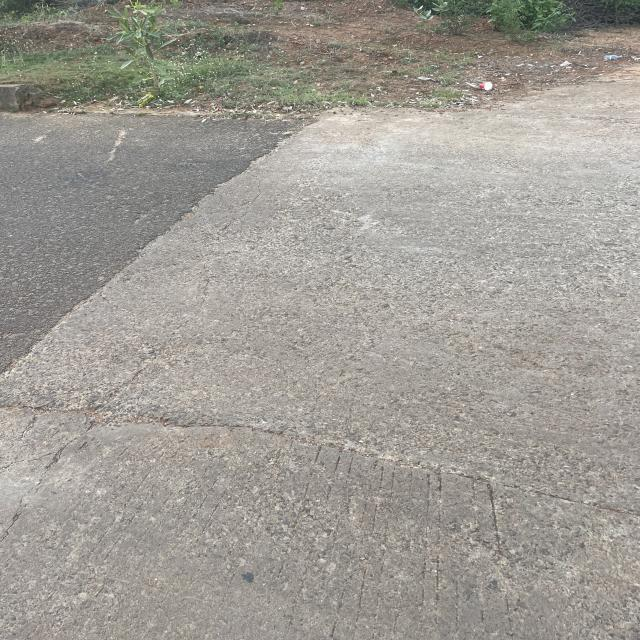D40: (13, 388, 585, 544)
D43: (0, 78, 424, 385)
